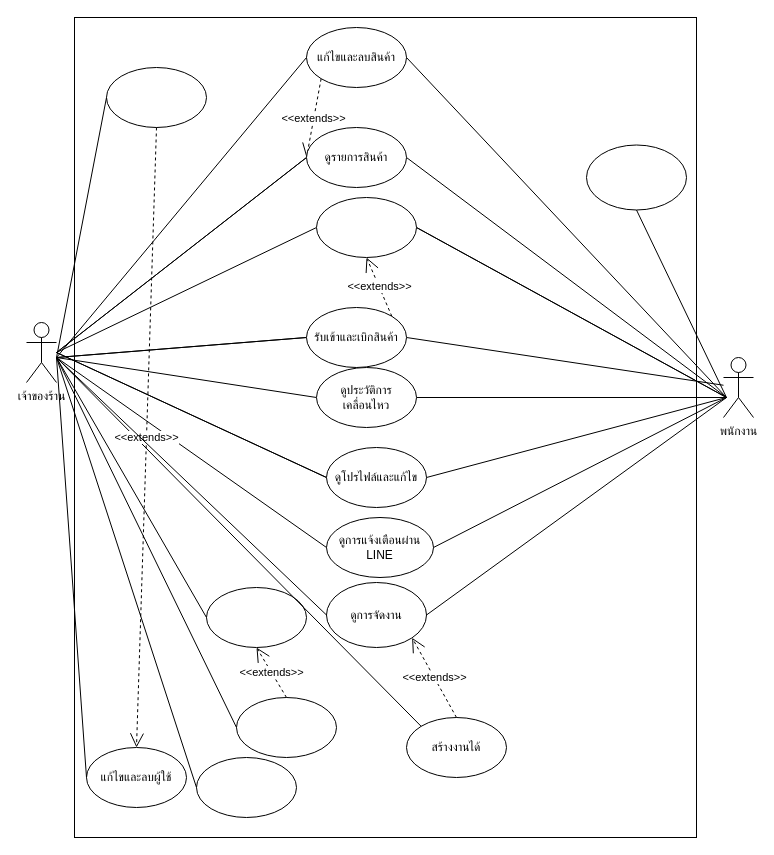
The diagram is 774 pixels wide and 855 high, and some of its shapes have lost their labels. The shapes that lost their labels are listed below. From the top down, each one's centre as x and y in pixels, then its label:
At pixel 156 97: "จัดการผู้ใช้".
At pixel 636 177: "สมัครสมาชิก".
At pixel 366 227: "ดูสต๊อกสินค้า".
At pixel 256 617: "เพิ่มงาน".
At pixel 286 727: "ดูรายละเอียดปฏิทิน".
At pixel 246 787: "ดูภาพรวมระบบ".
